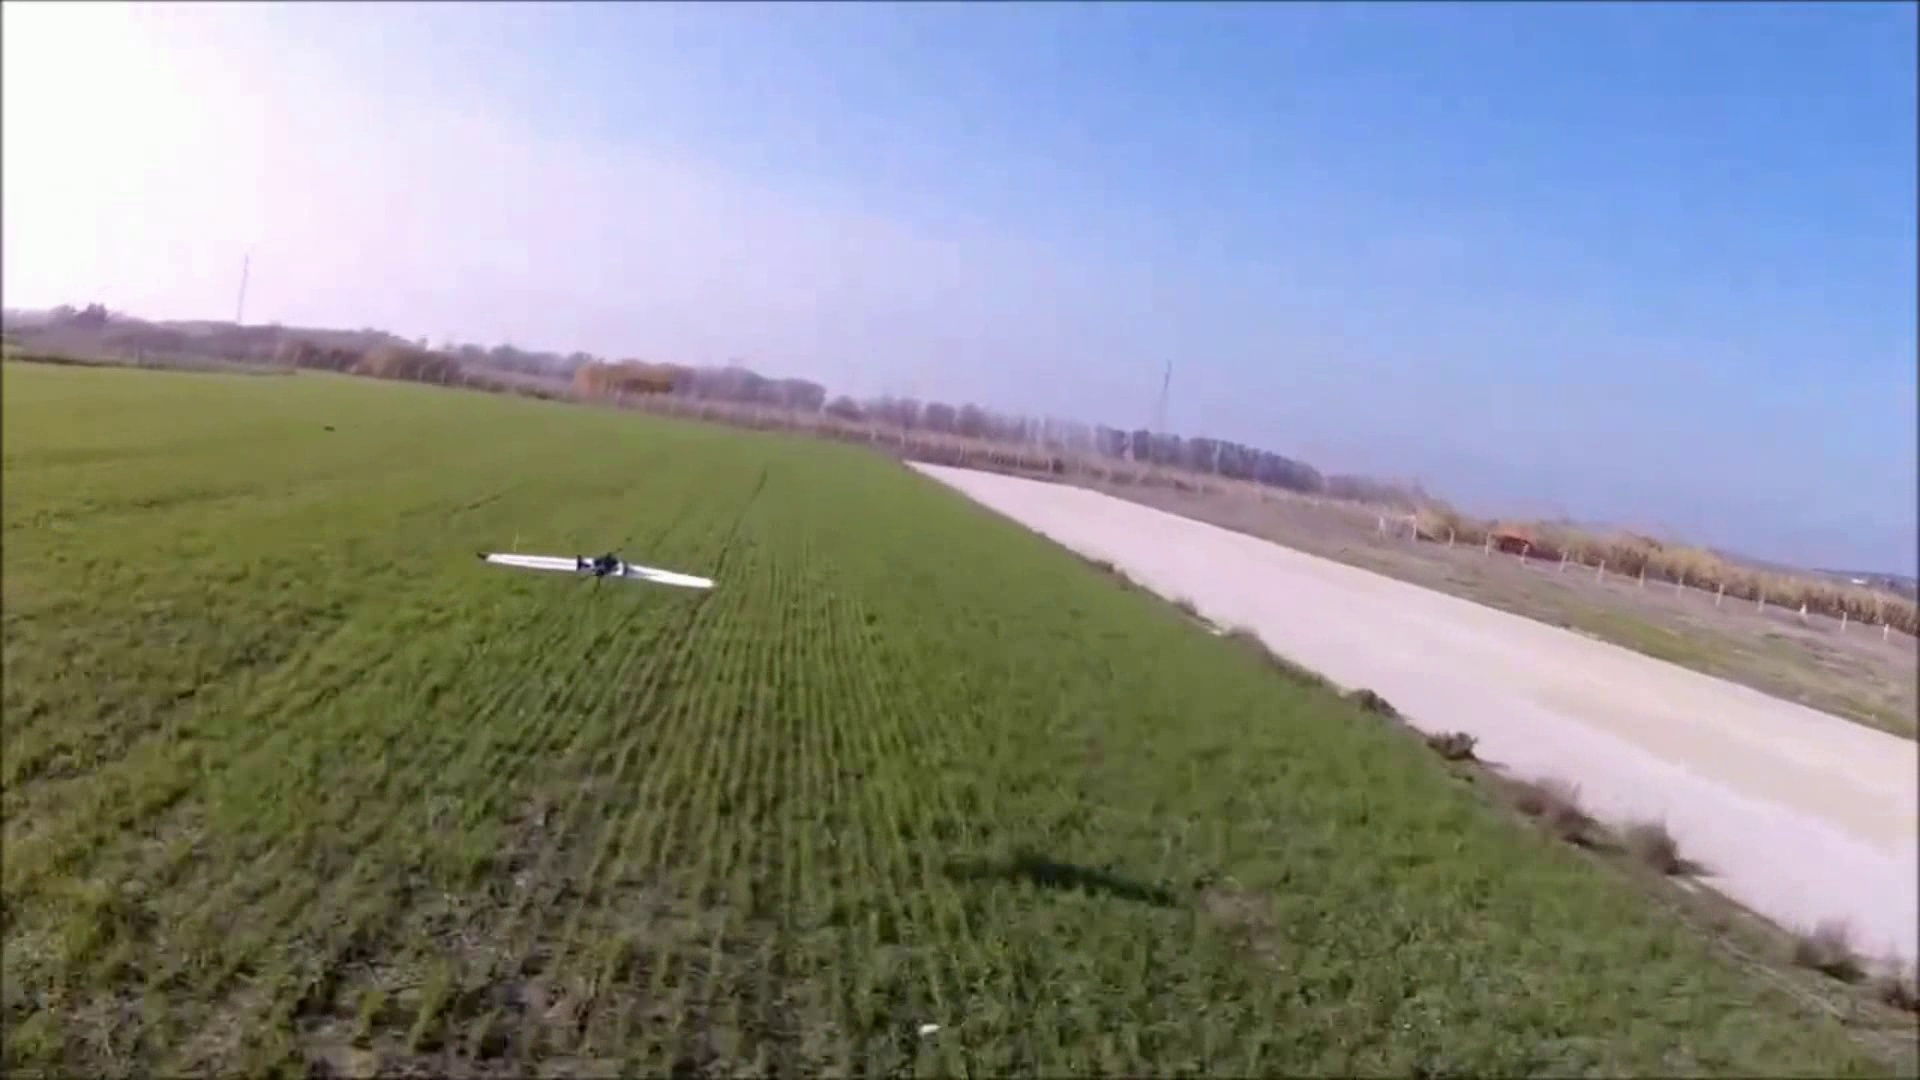airplane: (481, 541, 717, 591)
